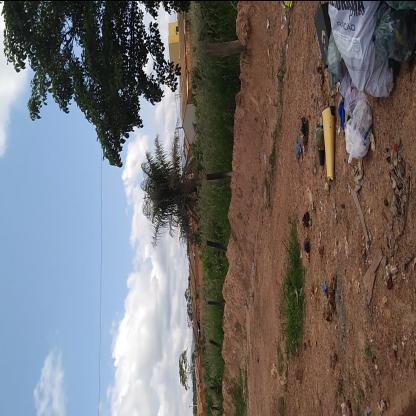lixo: (313, 0, 407, 180)
